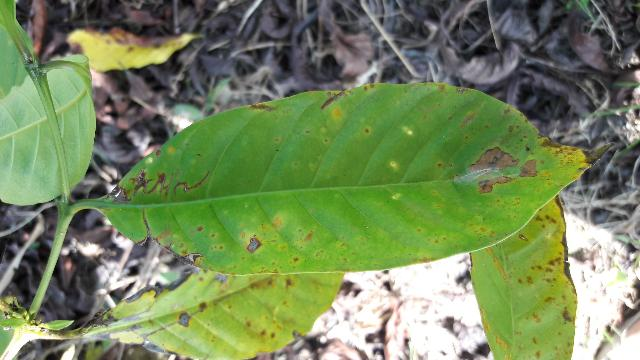rust_level_4: (98, 85, 616, 271)
